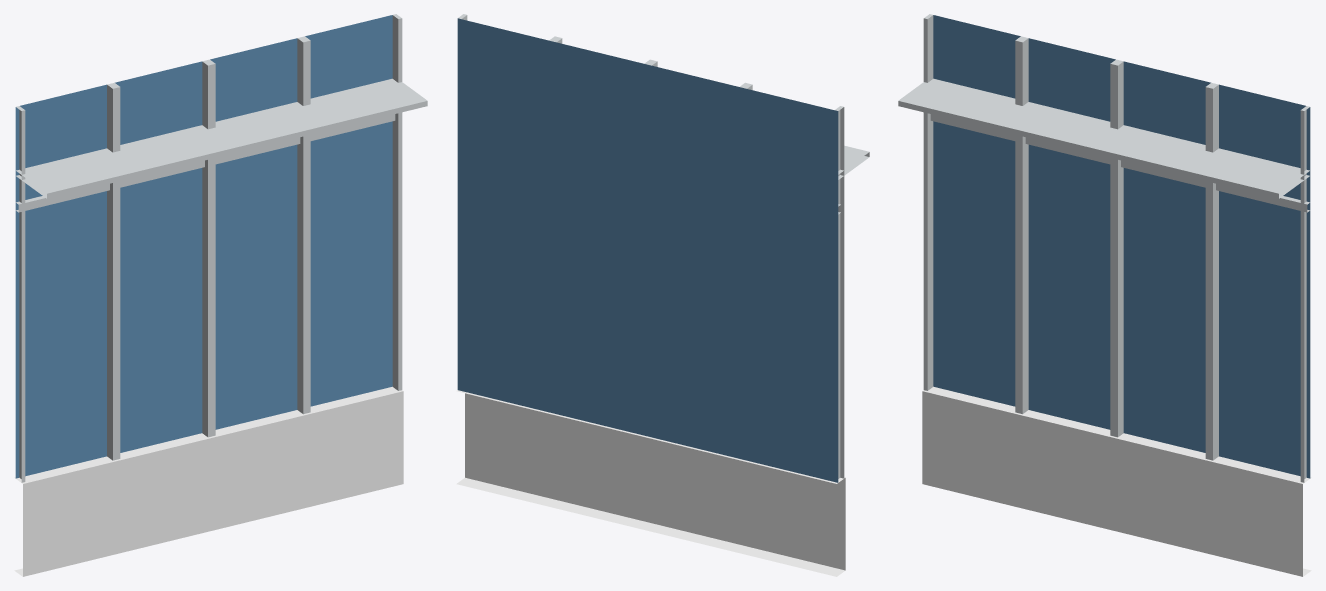
File: mid-w1_close.fbx
3 views of the same model, side by side, from view 1: azimuth 30°, elevation 25°; view 2: azimuth 150°, elevation 25°; view 3: azimuth 330°, elevation 25° (orthographic).
Visible parts, largest first — view 1: a2009/400/mid-w1_close; view 2: a2009/400/mid-w1_close; view 3: a2009/400/mid-w1_close.
Part boxes in pixels (box(x1,y1,x2,y2)): a2009/400/mid-w1_close: box(14, 14, 427, 576); a2009/400/mid-w1_close: box(456, 14, 869, 576); a2009/400/mid-w1_close: box(898, 14, 1311, 576).
Size of the model in its own units: 3 by 3.5 by 0.45.
